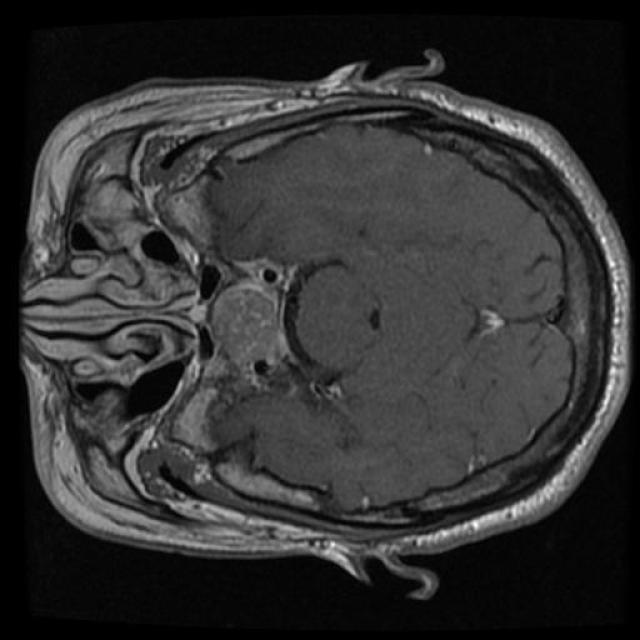Pituitary: (209, 258, 302, 388)
